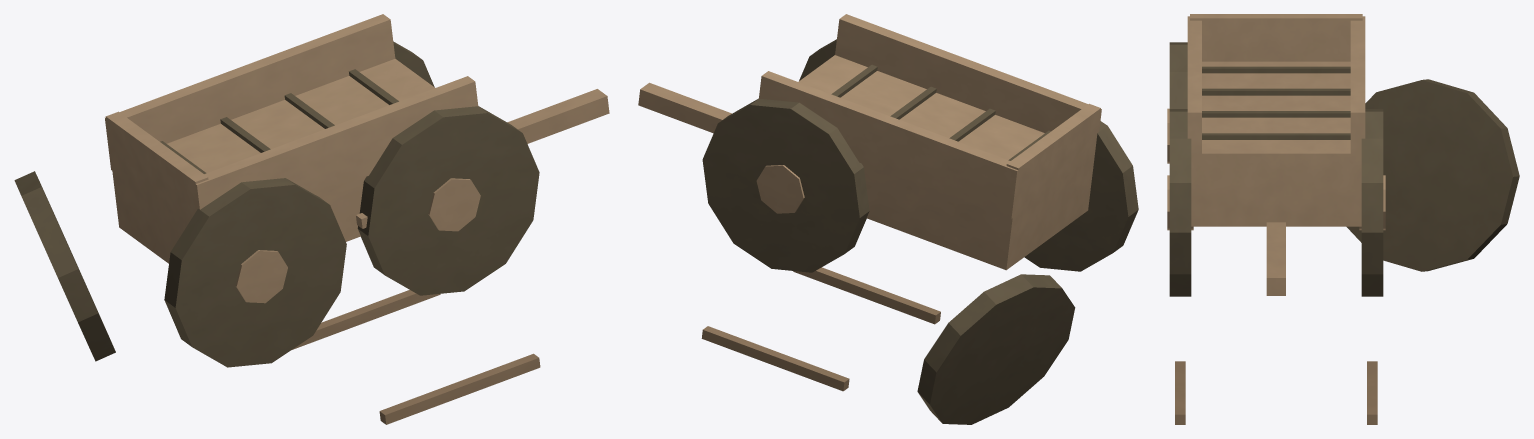
Rendered from wagon.glb.
3 renders of one model, left to right at view 1: azimuth 30°, elevation 25°; view 2: azimuth 150°, elevation 25°; view 3: azimuth 270°, elevation 25°, orthographic. The views are drawn at different scales.
Parts seen in each view (by area): view 1: wagon; view 2: wagon; view 3: wagon.
Part boxes in pixels (x1,y1,x2,y2): wagon: (14, 14, 609, 424); wagon: (638, 14, 1138, 424); wagon: (1167, 14, 1519, 424).
Bounding box in the file's own units: 2.37 × 1.4 × 1.47.
1 material, 1 textured.
